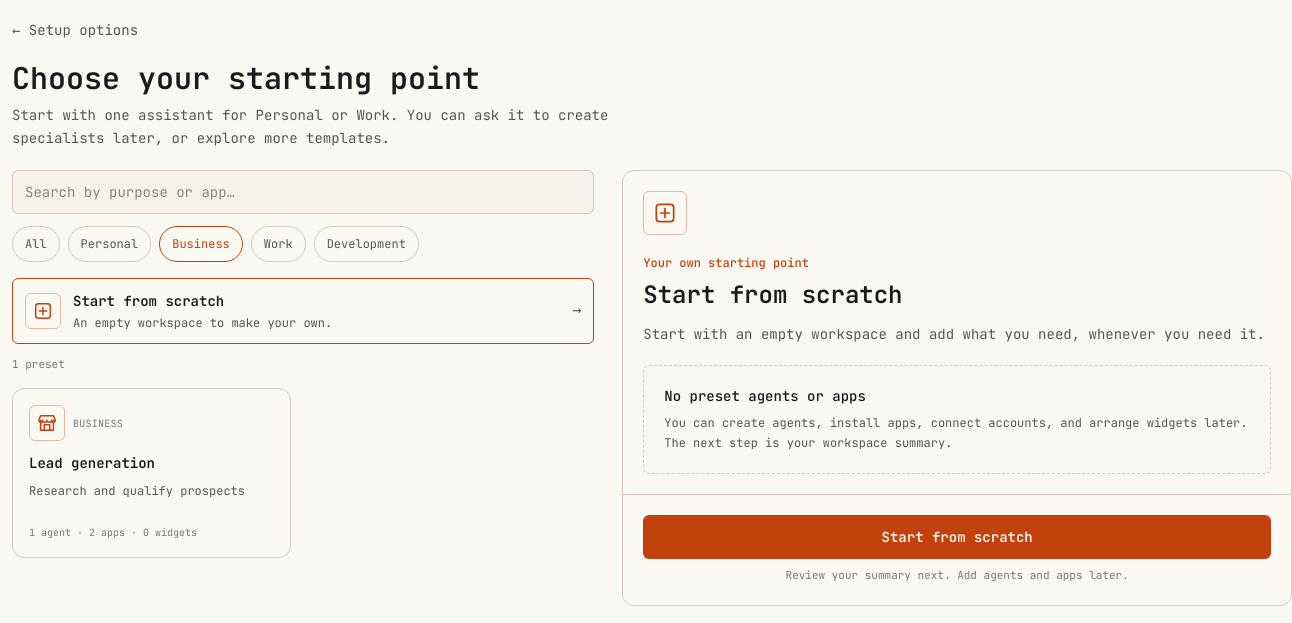
Test case: starts in the audience category, searches across categories, and has no provisioning side effects
The image size is (1292, 623).
Expected: the button "Lead generation" is shown, [12,388,291,558]
Expected: the button "Personal assistant" is not shown
Type "Personal assistant" into the search field named "Search presets".
click(303, 192); type("Personal assistant")  # box [12,170,594,214]
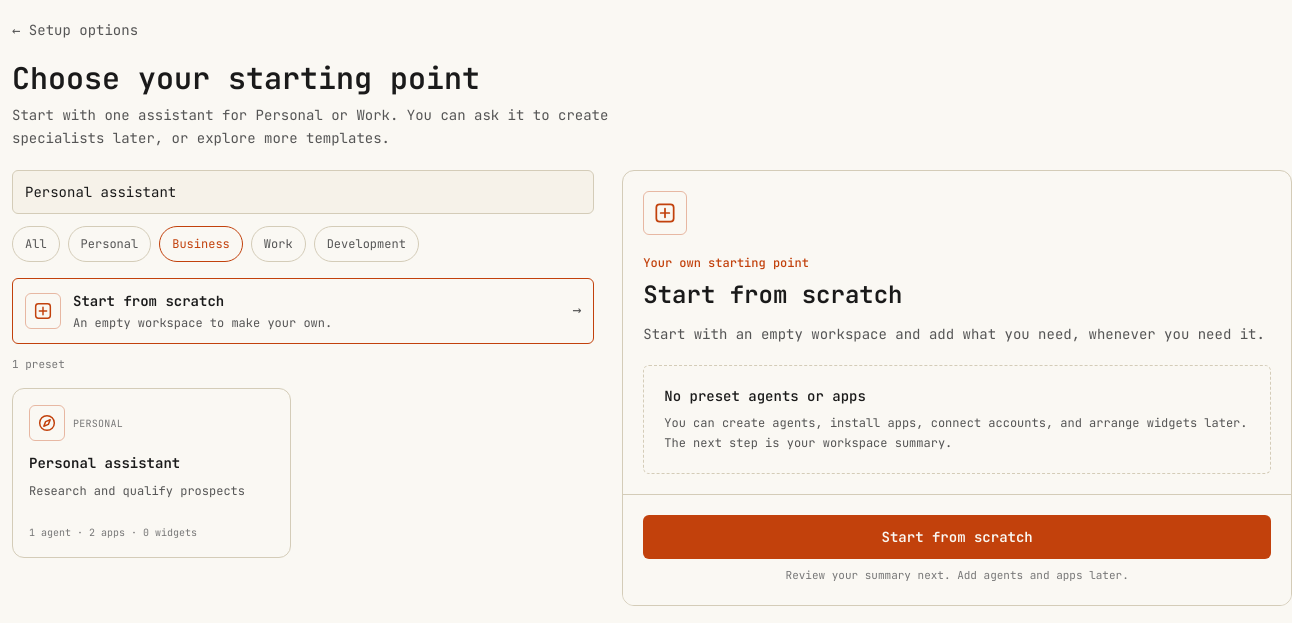
Expected: the button "Personal assistant" is shown, [12,388,291,558]
Replace the text in the search field with "unknown" at [303, 192], box [12,170,594,214]
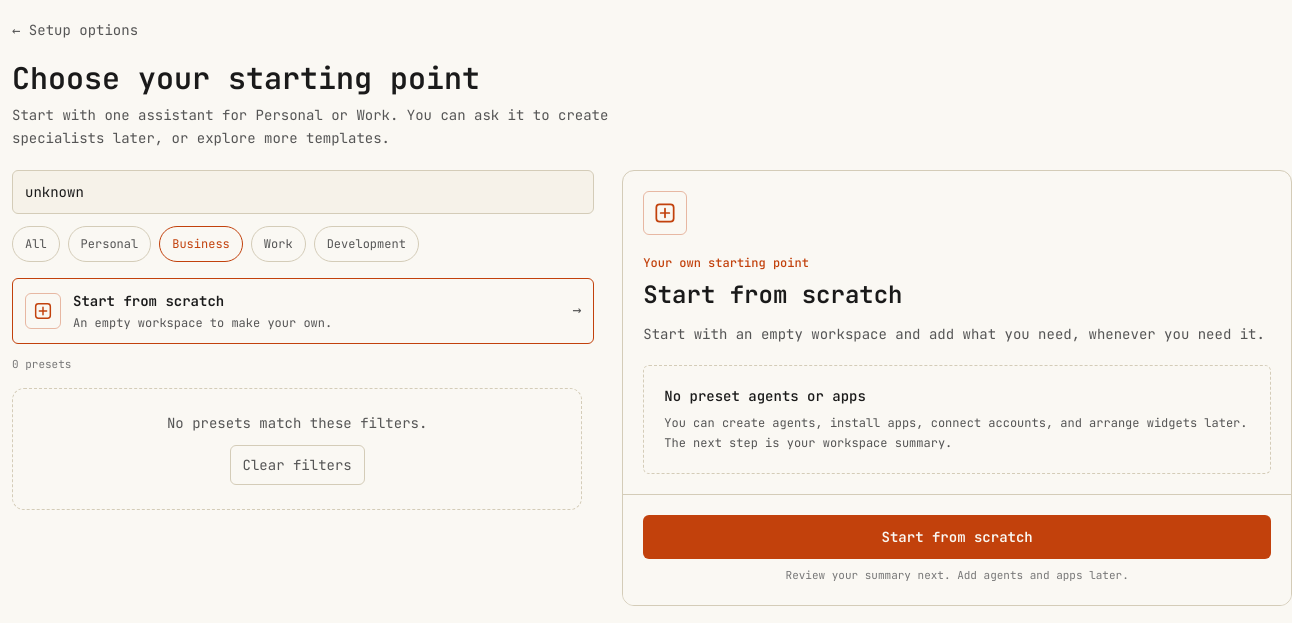
Expected: the text "No presets match these filters." is shown, [167,414,427,432]
